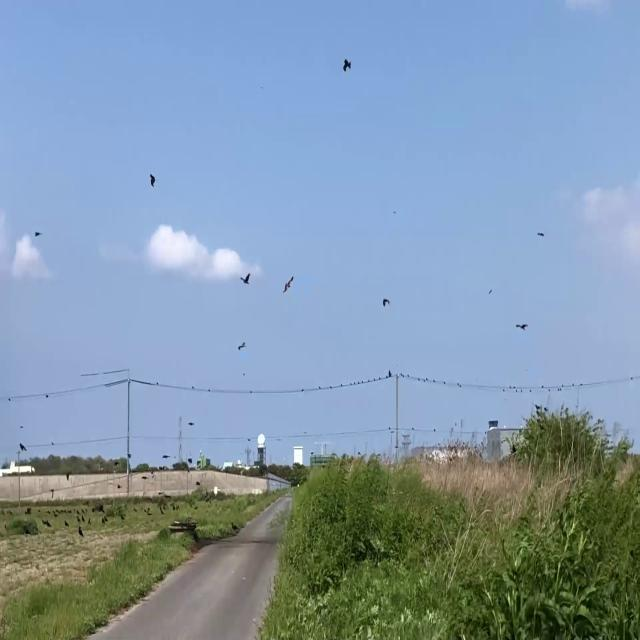bird: (284, 270, 293, 299), (516, 315, 528, 334), (344, 52, 351, 79), (150, 166, 156, 192), (536, 225, 545, 242), (243, 268, 250, 288), (78, 519, 83, 540)
